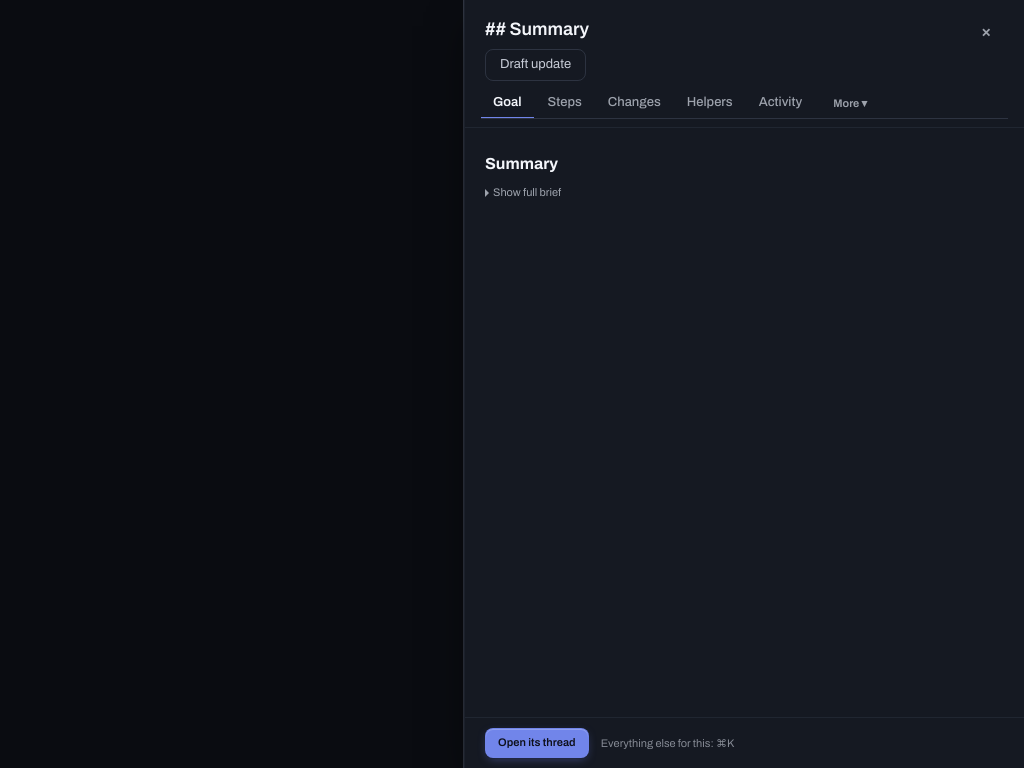
the sheets › renders a long markdown goal as a heading and a closed full brief in prose
Click the heading "Show full brief" at point(523, 193), box [485,184,561,201]
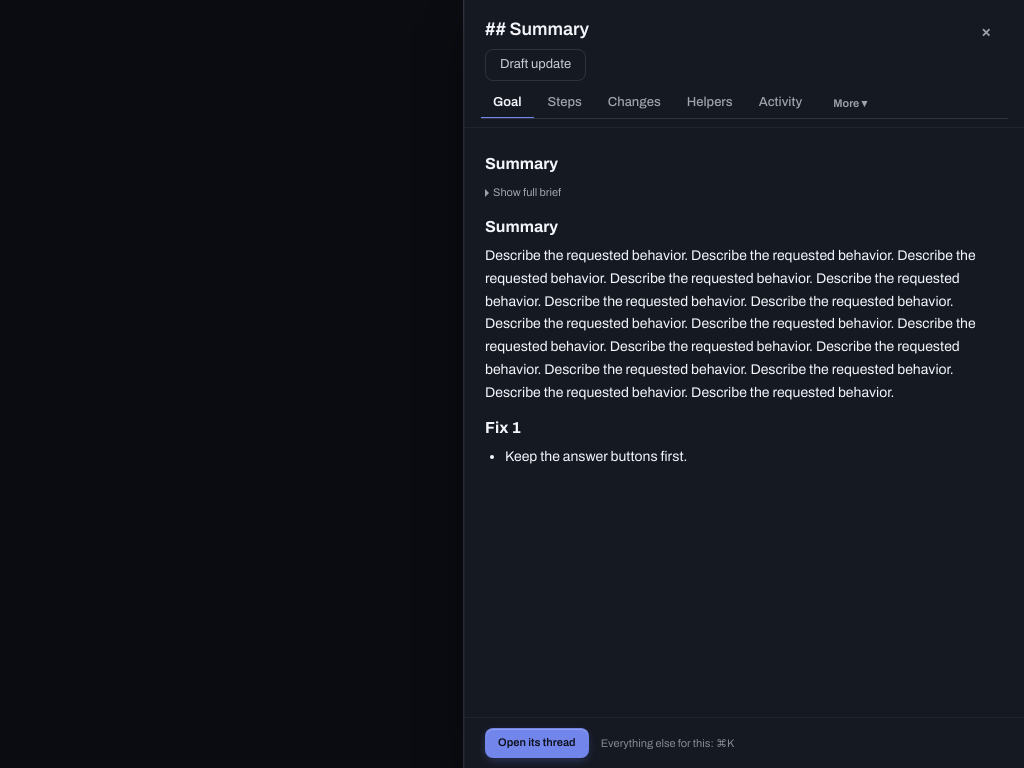
Now the heading "Fix 1" is shown, box [485,419,521,436]
Now the text "Show full brief" shows "Keep the answer buttons first.", box [505,449,688,464]
